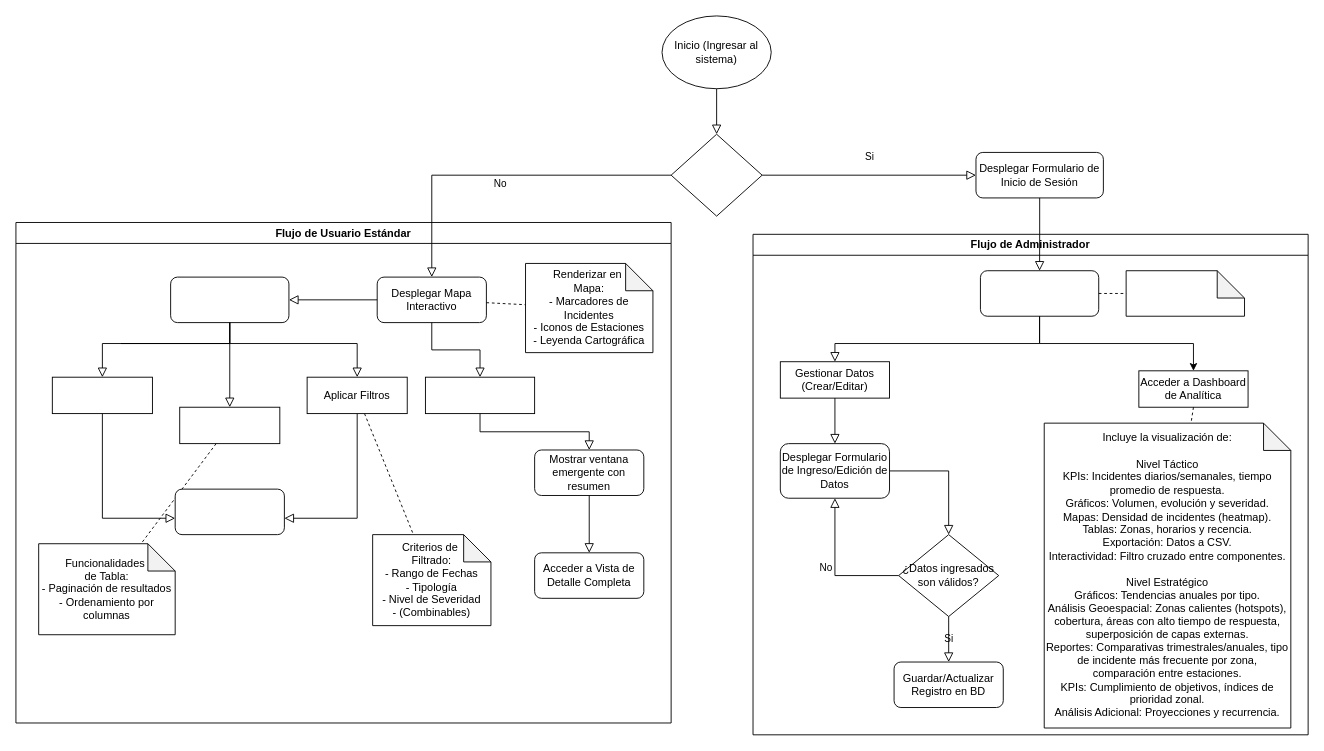
This 1324x751 diagram has some shape labels left out. The shapes that lost their labels are listed below. From the top down, each one's centre as x and y in pixels, then its label:
At point 716,174: "¿Usuario ha iniciado sesión?".
At point 229,299: "Barra de Herramientas / Menú Lateral".
At point 1039,293: "Barra de Herramientas / Menú (Admin)".
At point 1185,293: "Incluye todas las funciones de usuario estándar".
At point 101,395: "Buscar por ID".
At point 480,395: "Usuario interactúa con marcador (clic)".
At point 229,425: "Ver Historial en Tabla".
At point 229,511: "Actualizar Vista de Mapa y/o Tabla".
